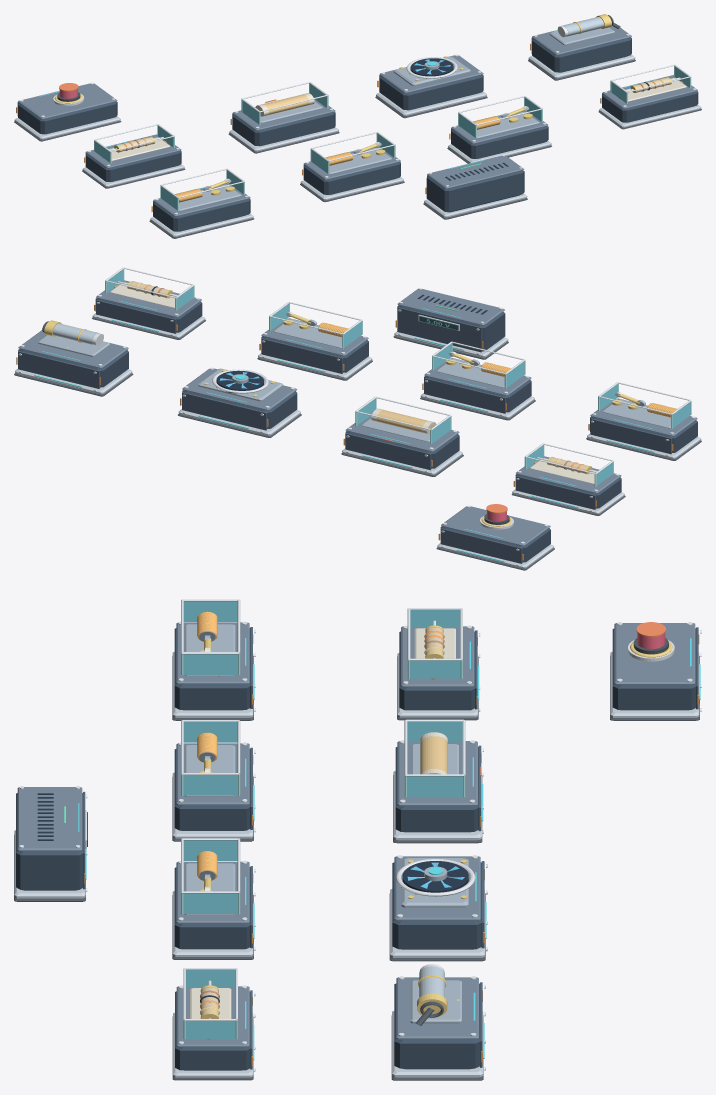
File: Level36_Fitted_Assembly.fbx
The picture shows the model from 3 angles, top to bottom: view 1: azimuth 30°, elevation 25°; view 2: azimuth 150°, elevation 25°; view 3: azimuth 270°, elevation 25°; orthographic projection. The views are drawn at different scales.
Visible parts, largest first — view 1: L36_Supply_Static__graphite, L36_Fan_Static__graphite, L36_Sensor_Static__graphite, L36_Heater_Static__graphite, L36_FaultLed_Static__graphite, L36_HeaterContact_Static__graphite, L36_FaultContact_Static__graphite, L36_FanContact_Static__graphite, L36_Supply_Static__mid_steel, L36_FaultLed_Static__mid_steel, L36_LedResistor_Static__graphite, L36_Pullup_Static__graphite (+39 smaller); view 2: L36_Supply_Static__deep_steel, L36_Supply_Static__mid_steel, L36_FaultLed_Static__mid_steel, L36_Fan_Static__deep_steel, L36_Sensor_Static__deep_steel, L36_Heater_Static__deep_steel, L36_FanContact_Static__deep_steel, L36_FaultContact_Static__deep_steel, L36_HeaterContact_Static__deep_steel, L36_FaultLed_Static__deep_steel, L36_Sensor_Static__mid_steel, L36_LedResistor_Static__deep_steel (+44 smaller); view 3: L36_Supply_Static__mid_steel, L36_FaultLed_Static__mid_steel, L36_Fan_Static__graphite, L36_Sensor_Static__mid_steel, L36_Sensor_Static__graphite, L36_Supply_Static__graphite, L36_Heater_Static__graphite, L36_FaultLed_Static__graphite, L36_FanContact_Static__graphite, L36_FaultContact_Static__graphite, L36_HeaterContact_Static__graphite, L36_Fan_Static__mid_steel (+38 smaller).
Boxes of the visible parts, left/top/right/bottom form: L36_Supply_Static__graphite: left=426, top=170, right=524, bottom=212; L36_Fan_Static__graphite: left=379, top=74, right=483, bottom=110; L36_Sensor_Static__graphite: left=532, top=37, right=631, bottom=72; L36_Heater_Static__graphite: left=232, top=112, right=335, bottom=146; L36_FaultLed_Static__graphite: left=18, top=101, right=117, bottom=134; L36_HeaterContact_Static__graphite: left=303, top=162, right=400, bottom=194; L36_FaultContact_Static__graphite: left=153, top=198, right=250, bottom=231; L36_FanContact_Static__graphite: left=451, top=126, right=548, bottom=158; L36_Supply_Static__mid_steel: left=427, top=155, right=524, bottom=188; L36_FaultLed_Static__mid_steel: left=18, top=83, right=117, bottom=119; L36_LedResistor_Static__graphite: left=85, top=150, right=181, bottom=182; L36_Pullup_Static__graphite: left=602, top=91, right=698, bottom=122; L36_Supply_Static__deep_steel: left=397, top=307, right=482, bottom=352; L36_Supply_Static__mid_steel: left=397, top=289, right=504, bottom=354; L36_FaultLed_Static__mid_steel: left=441, top=506, right=550, bottom=565; L36_Fan_Static__deep_steel: left=182, top=392, right=266, bottom=430; L36_Sensor_Static__deep_steel: left=18, top=351, right=99, bottom=388; L36_Heater_Static__deep_steel: left=345, top=433, right=431, bottom=470; L36_FanContact_Static__deep_steel: left=261, top=338, right=342, bottom=373; L36_FaultContact_Static__deep_steel: left=590, top=418, right=671, bottom=454; L36_HeaterContact_Static__deep_steel: left=424, top=378, right=505, bottom=413; L36_FaultLed_Static__deep_steel: left=440, top=528, right=522, bottom=563; L36_Sensor_Static__mid_steel: left=18, top=330, right=128, bottom=391; L36_LedResistor_Static__deep_steel: left=515, top=476, right=595, bottom=509; L36_Supply_Static__mid_steel: left=17, top=787, right=82, bottom=851; L36_FaultLed_Static__mid_steel: left=614, top=623, right=695, bottom=684; L36_Fan_Static__graphite: left=392, top=862, right=481, bottom=949; L36_Sensor_Static__mid_steel: left=396, top=977, right=485, bottom=1069; L36_Sensor_Static__graphite: left=394, top=983, right=479, bottom=1069; L36_Supply_Static__graphite: left=16, top=793, right=82, bottom=890; L36_Heater_Static__graphite: left=395, top=747, right=478, bottom=832; L36_FaultLed_Static__graphite: left=612, top=628, right=695, bottom=710; L36_FanContact_Static__graphite: left=174, top=867, right=250, bottom=949; L36_FaultContact_Static__graphite: left=174, top=628, right=250, bottom=710; L36_HeaterContact_Static__graphite: left=174, top=749, right=250, bottom=830; L36_Fan_Static__mid_steel: left=394, top=856, right=487, bottom=949.
Size of the model in its own units: 176 by 13.3 by 120.
